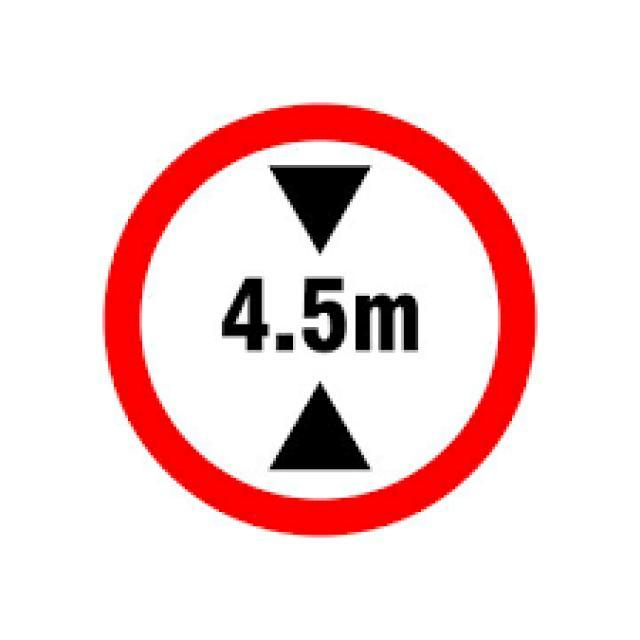height limit: (101, 98, 542, 539)
